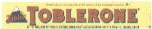grozi_68: (0, 0, 152, 29)
